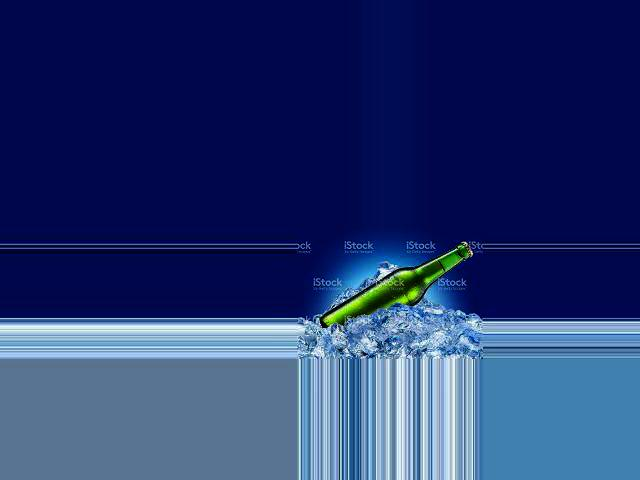beer: (319, 241, 474, 328)
